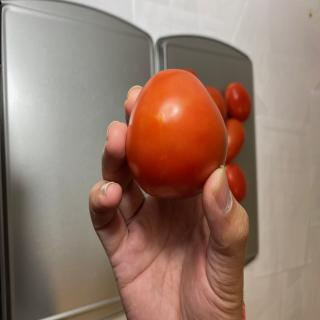Chilli: (125, 68, 228, 200)
Tomato: (224, 82, 252, 121), (224, 118, 245, 164), (224, 162, 247, 202), (205, 85, 227, 122)
